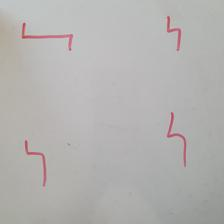five-prime-sticky-restriction-site: (20, 21, 74, 52), (165, 110, 187, 169), (24, 139, 47, 187), (165, 15, 185, 52)
